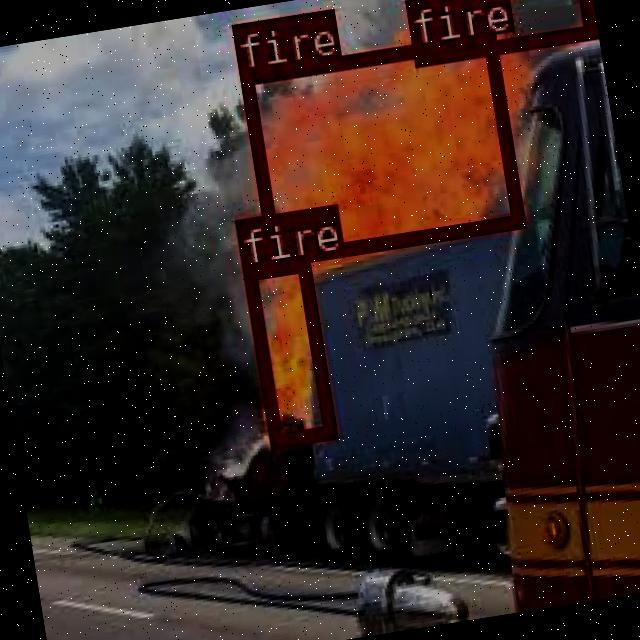fire: (238, 32, 522, 264), (240, 256, 334, 444), (403, 0, 593, 63)
